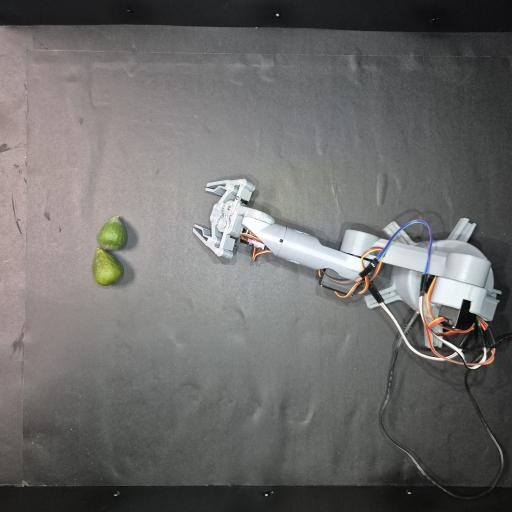higo: (93, 216, 127, 286)
